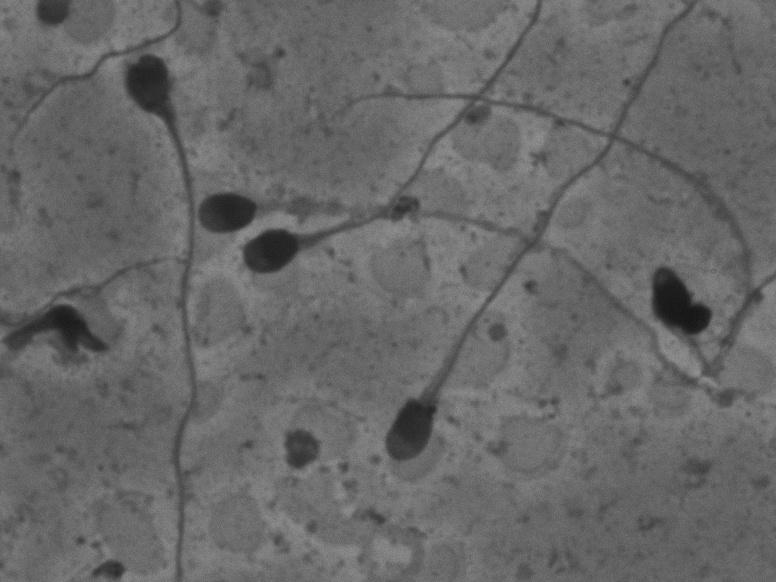Abnormal: (369, 10, 696, 471), (108, 48, 205, 555), (641, 249, 743, 400)
Normal: (193, 183, 719, 402), (233, 8, 558, 289)
